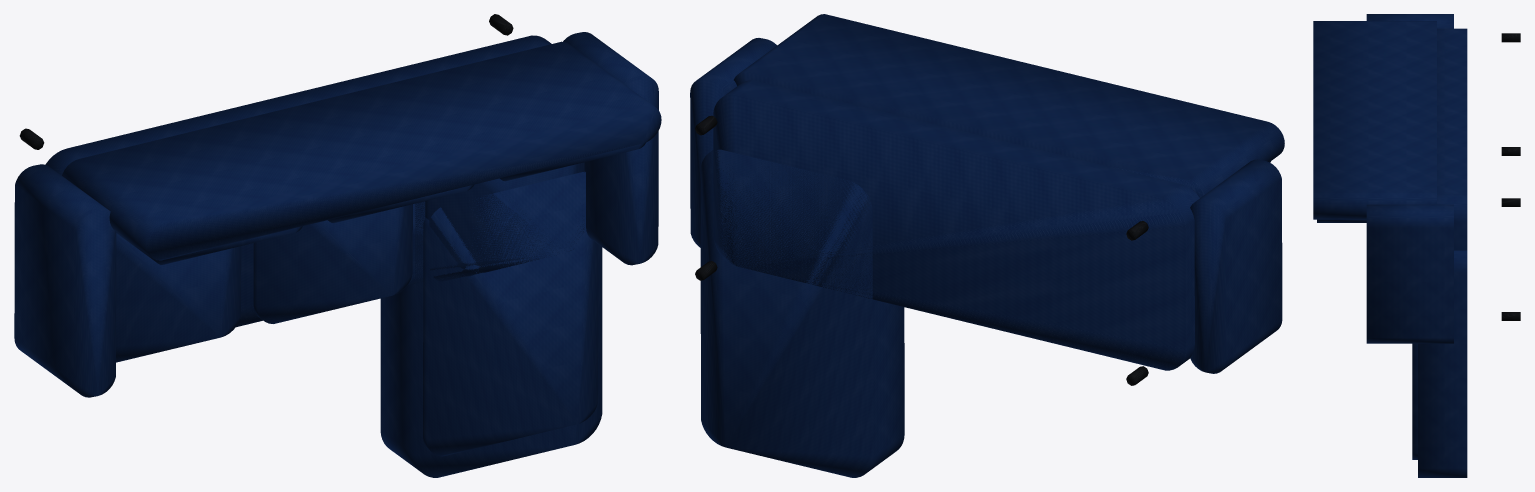
The model's file is SOFA_SECTIONAL_BLUE_HERO_001.glb.
3 views of the same model, side by side, from view 1: azimuth 30°, elevation 25°; view 2: azimuth 150°, elevation 25°; view 3: azimuth 270°, elevation 25° (orthographic). The views are drawn at different scales.
Parts seen in each view (by area): view 1: sofa_back_001, chaise_cushion_015, sofa_arm_002, seat_cushion_006, chaise_base_014, seat_cushion_004, sofa_arm_003, sofa_base_000, seat_cushion_008, back_pillow_005, back_pillow_007, back_pillow_009; view 2: sofa_base_000, chaise_base_014, sofa_back_001, sofa_arm_002, sofa_arm_003; view 3: sofa_back_001, sofa_arm_003, chaise_base_014, sofa_base_000, sofa_arm_002, chaise_cushion_015.
Boxes of the visible parts, box(x1,y1,x2,y2) form: sofa_back_001: box(62, 41, 661, 260); chaise_cushion_015: box(423, 171, 598, 456); sofa_arm_002: box(14, 164, 116, 397); seat_cushion_006: box(253, 204, 412, 323); chaise_base_014: box(380, 201, 602, 477); seat_cushion_004: box(116, 233, 241, 362); sofa_arm_003: box(563, 32, 658, 265); sofa_base_000: box(45, 35, 551, 327); seat_cushion_008: box(425, 162, 584, 281); back_pillow_005: box(116, 226, 302, 264); back_pillow_007: box(328, 184, 474, 223); back_pillow_009: box(499, 142, 645, 181); sofa_base_000: box(713, 80, 1199, 370); chaise_base_014: box(700, 149, 904, 477); sofa_back_001: box(734, 14, 1284, 197); sofa_arm_002: box(1190, 159, 1282, 373); sofa_arm_003: box(690, 38, 776, 247); sofa_back_001: box(1313, 21, 1436, 219); sofa_arm_003: box(1366, 204, 1453, 343); chaise_base_014: box(1418, 250, 1467, 477); sofa_base_000: box(1437, 28, 1467, 250); sofa_arm_002: box(1366, 14, 1453, 28); chaise_cushion_015: box(1412, 343, 1417, 459).
Bounding box in the file's own units: 2.55 × 1.64 × 1.09.
2 materials, 2 textured.
